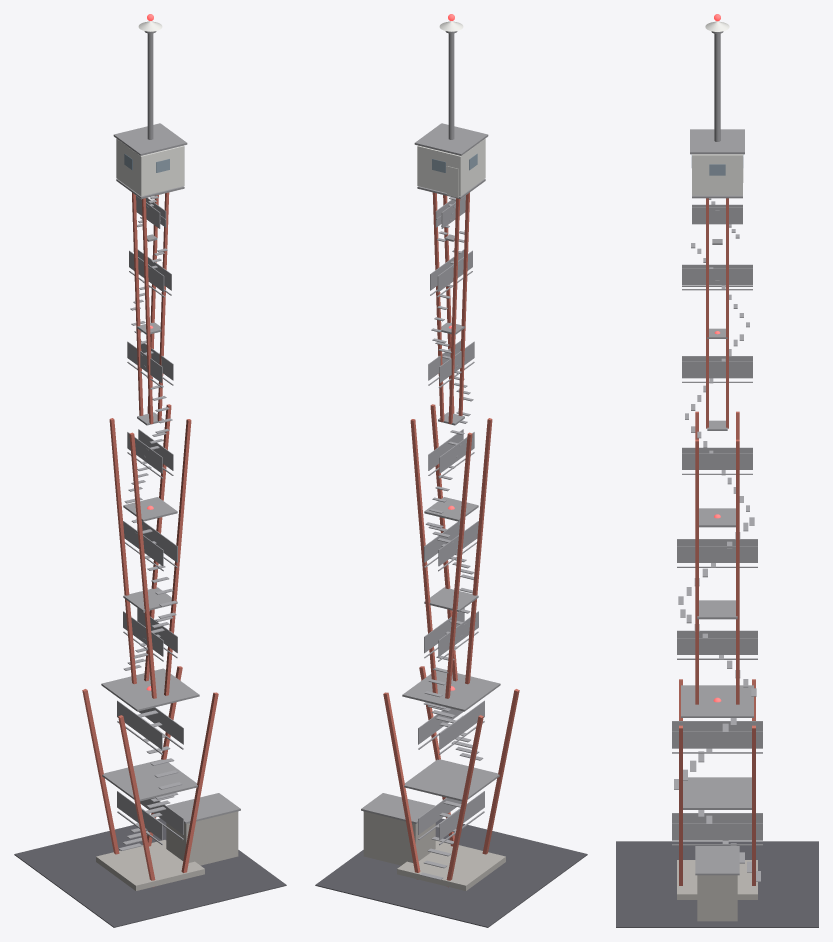
Rendered from broadcast_tower_shell.glb.
3 views of the same model, side by side, from view 1: azimuth 30°, elevation 25°; view 2: azimuth 150°, elevation 25°; view 3: azimuth 270°, elevation 25° (orthographic).
Parts seen in each view (by area): view 1: base_pad, foundation, cab_body, rail_l (×4), shed_body, brace_10, brace_05, leg_bl_2, leg_fl_2, leg_br_2, cab_roof, shed_roof (+11 smaller); view 2: base_pad, foundation, rail_l (×4), shed_body, cab_body, brace_05, brace_10, leg_fl_2, leg_bl_2, leg_fr_2, cab_roof, shed_roof (+11 smaller); view 3: base_pad, rail_r (×8), rail_l (×5), brace_05, brace_10, cab_body, shed_body, cab_roof, shed_roof, foundation, leg_fr_2, leg_br_2 (+7 smaller).
Part boxes in pixels (<box>): base_pad: <box>14,818,286,927</box>; foundation: <box>96,840,204,890</box>; cab_body: <box>116,138,184,196</box>; rail_l (×4): <box>117,521,163,839</box>; shed_body: <box>166,811,238,865</box>; brace_10: <box>101,668,199,711</box>; brace_05: <box>102,759,197,801</box>; leg_bl_2: <box>129,432,156,698</box>; leg_fl_2: <box>109,418,136,684</box>; leg_br_2: <box>164,419,191,695</box>; cab_roof: <box>113,123,187,155</box>; shed_roof: <box>167,793,240,823</box>; base_pad: <box>315,818,587,927</box>; foundation: <box>397,840,505,890</box>; rail_l (×4): <box>438,521,484,839</box>; shed_body: <box>363,811,435,865</box>; cab_body: <box>417,138,485,196</box>; brace_05: <box>404,759,499,801</box>; brace_10: <box>402,670,500,711</box>; leg_fl_2: <box>445,432,472,698</box>; leg_bl_2: <box>465,418,492,684</box>; leg_fr_2: <box>410,419,437,693</box>; cab_roof: <box>414,123,488,155</box>; shed_roof: <box>361,793,434,823</box>; base_pad: <box>616,841,818,927</box>; rail_r (×8): <box>672,207,762,840</box>; rail_l (×5): <box>672,447,762,823</box>; brace_05: <box>683,777,751,809</box>; brace_10: <box>681,685,753,717</box>; cab_body: <box>692,154,742,195</box>; shed_body: <box>697,875,737,921</box>; cab_roof: <box>690,129,744,154</box>; shed_roof: <box>695,846,739,875</box>; foundation: <box>677,860,757,899</box>; leg_fr_2: <box>736,439,739,704</box>; leg_br_2: <box>695,439,698,704</box>.
Size of the model in its own units: 10 by 47.36 by 10.
